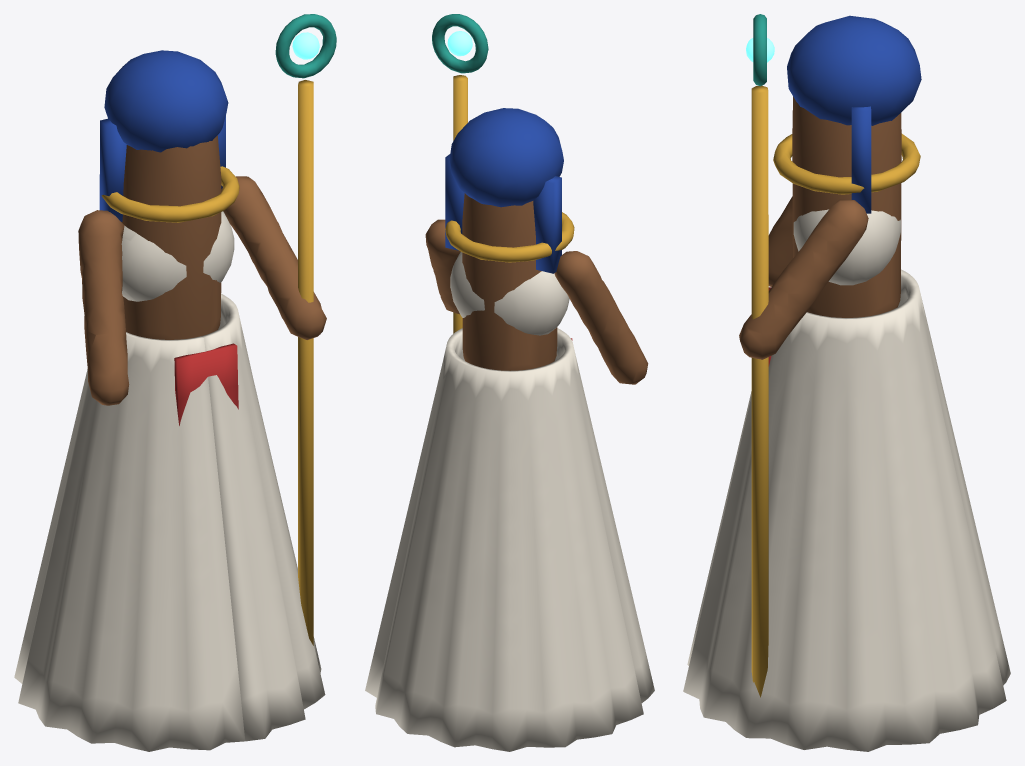
The model's file is pretresse.glb.
3 views of the same model, side by side, from view 1: azimuth 30°, elevation 25°; view 2: azimuth 150°, elevation 25°; view 3: azimuth 270°, elevation 25° (orthographic). The views are drawn at different scales.
Visible parts, largest first — view 1: white, bronze_skin, lapis, gold, team, turq, ether; view 2: white, bronze_skin, lapis, gold, turq, ether; view 3: white, bronze_skin, lapis, gold, turq.
Boxes of the visible parts, x1,y1,x2,y2 form: white: [14, 211, 325, 751]; bronze_skin: [78, 135, 326, 405]; lapis: [99, 50, 228, 221]; gold: [101, 80, 313, 645]; team: [174, 343, 238, 425]; turq: [275, 14, 336, 78]; ether: [292, 32, 319, 59]; white: [365, 252, 654, 751]; bronze_skin: [425, 193, 648, 384]; lapis: [445, 108, 563, 273]; gold: [445, 75, 574, 333]; turq: [432, 14, 488, 73]; ether: [447, 31, 472, 56]; white: [683, 209, 1010, 751]; bronze_skin: [739, 96, 901, 359]; lapis: [787, 15, 921, 213]; gold: [751, 85, 920, 697]; turq: [753, 14, 766, 86].
Bounding box in the file's own units: 0.3627 × 0.8741 × 0.3627.
